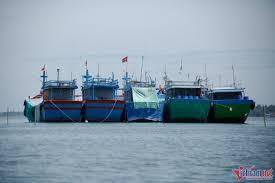Ship: (25, 74, 84, 123), (209, 74, 256, 124), (83, 70, 126, 122), (123, 73, 165, 123), (164, 82, 212, 123)
